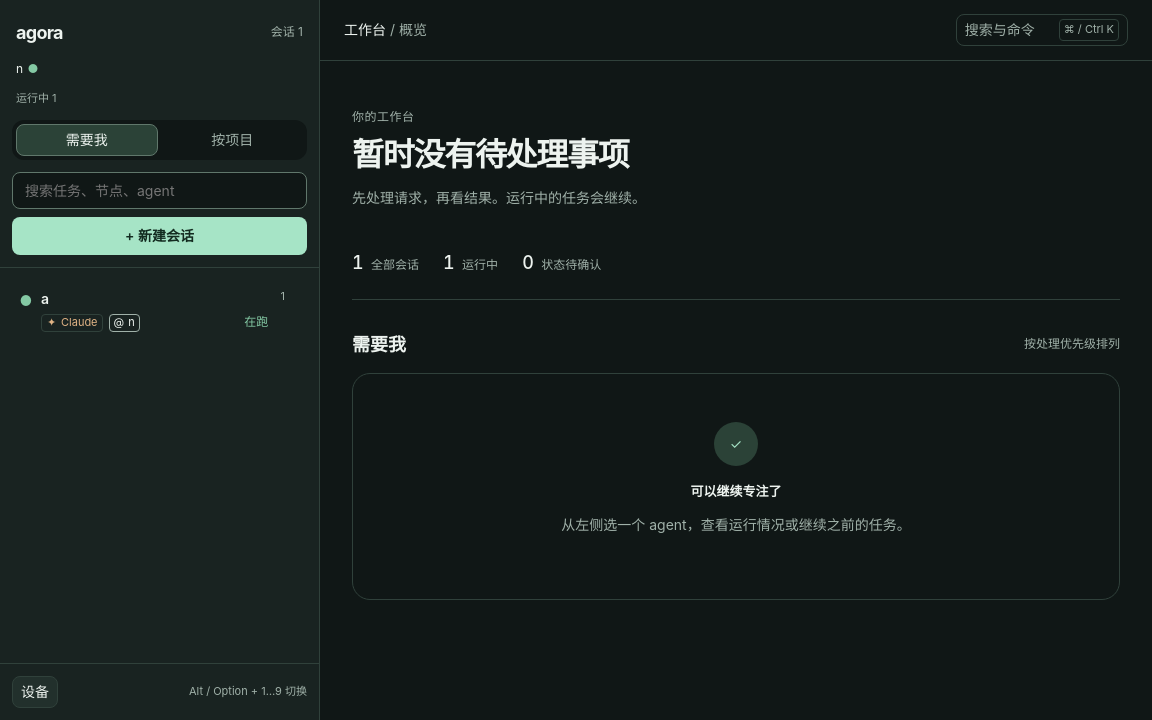
Scenario: Workspace › Restart is disabled for adopted sessions that never recorded a command (agora-vto)
The width and height of the screenshot is (1152, 720).
Click the button with test id "row-n:a".
click(72, 323)  # box [10,276,294,345]
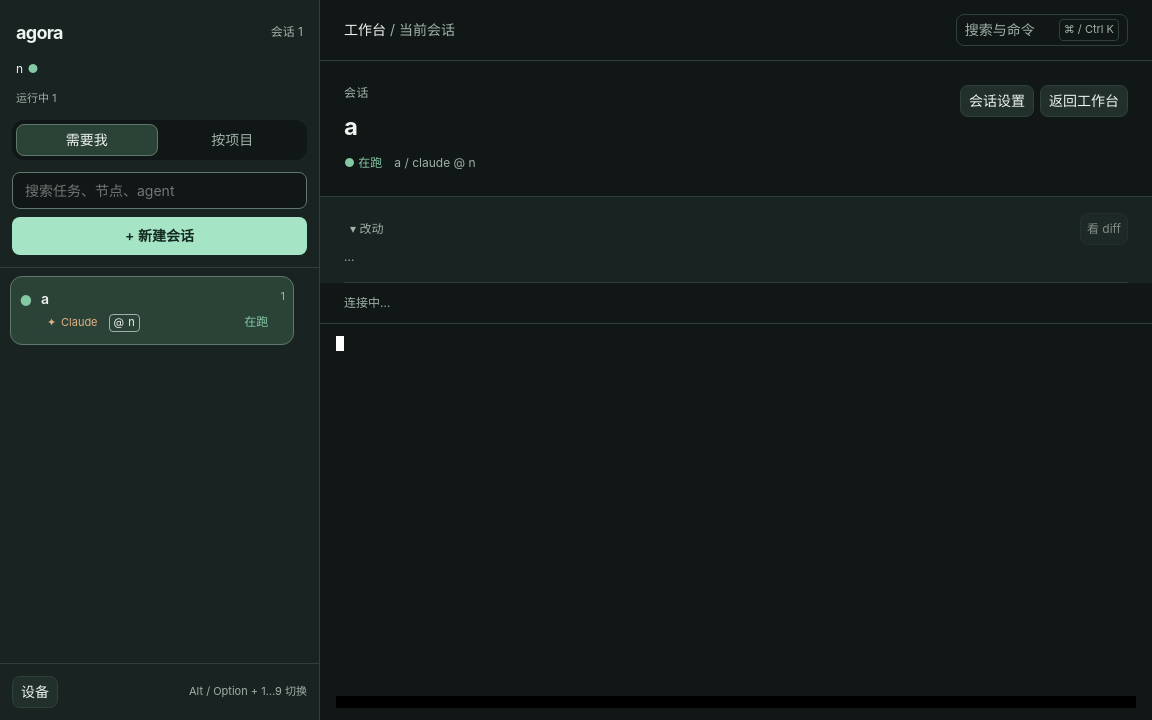
Click the button "会话设置".
click(997, 101)  # box [960,85,1034,117]
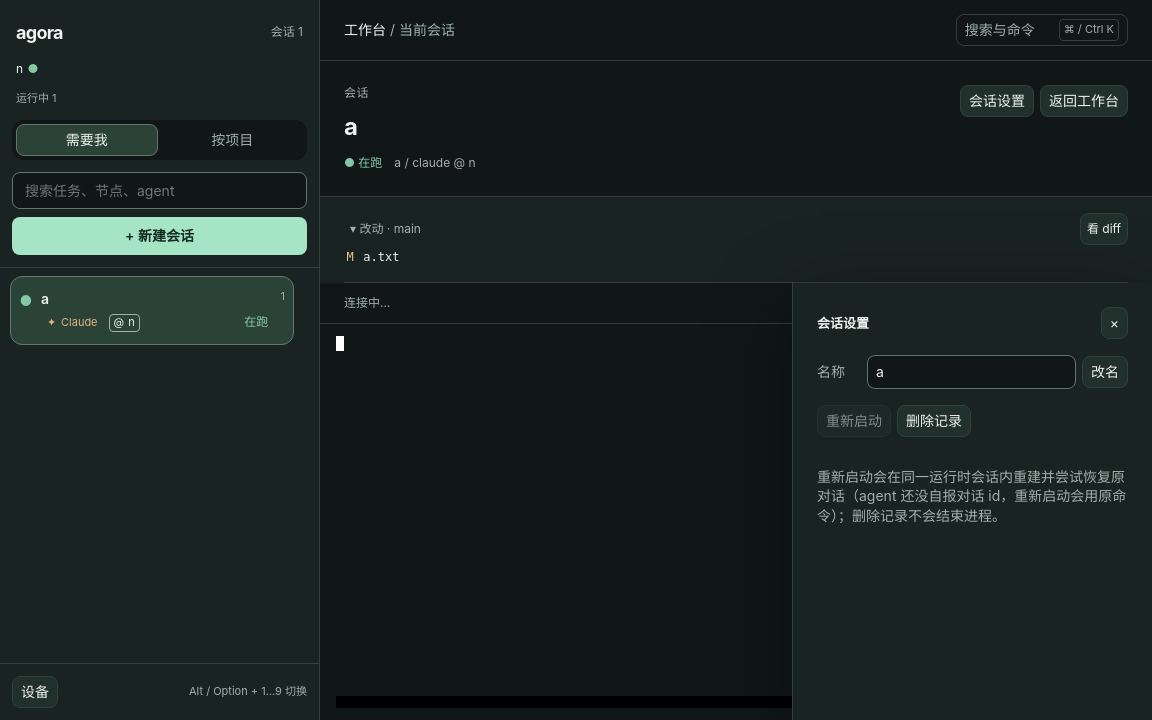
Now the button "重新启动" is disabled, box [817,405,891,437]
